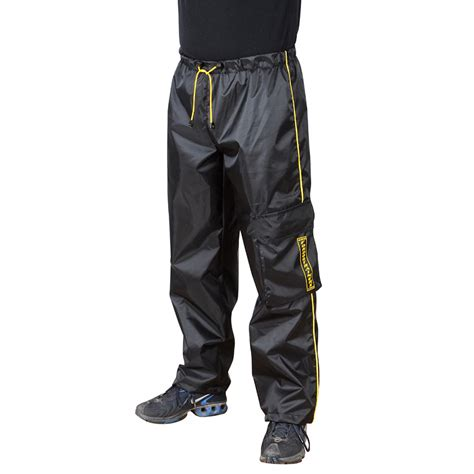nylon: (166, 52, 323, 424)
